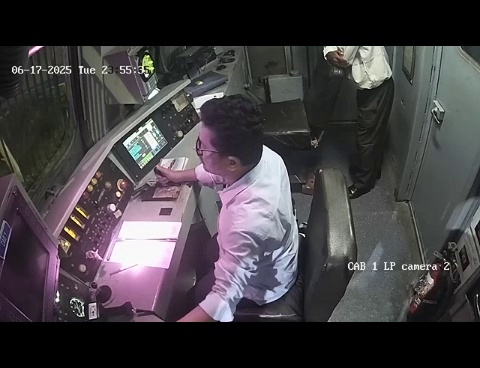horn_inactive: (68, 268, 124, 320)
